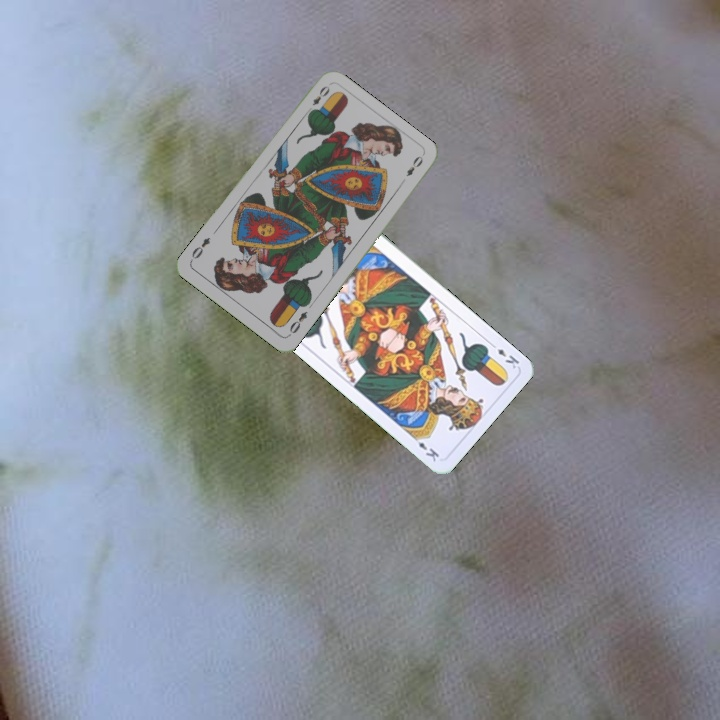EK: (486, 339, 522, 371)
EO: (302, 82, 333, 116), (284, 307, 310, 339)
